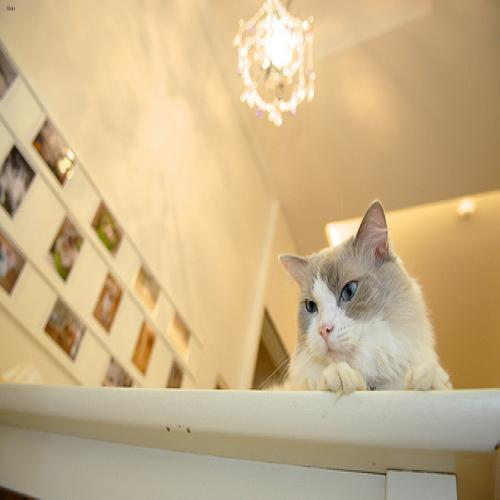ragdoll: (280, 196, 397, 379)
